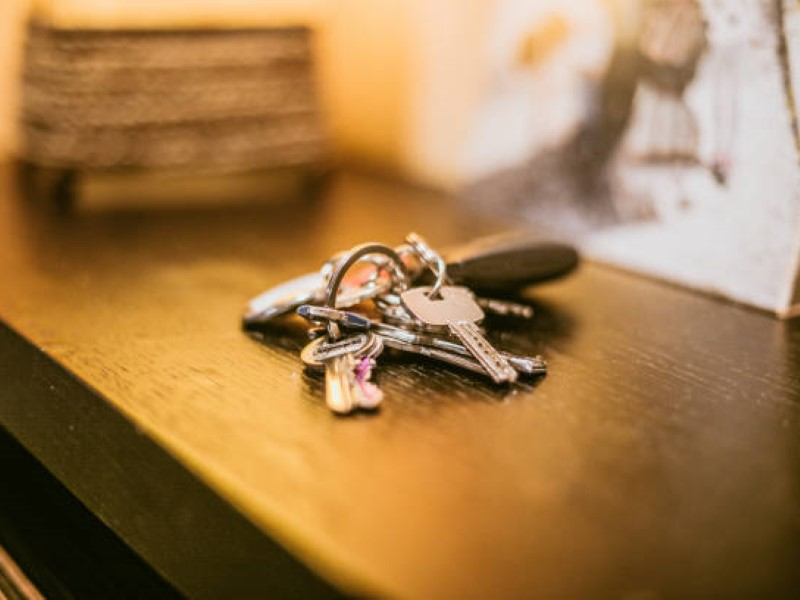key: (292, 279, 556, 426)
